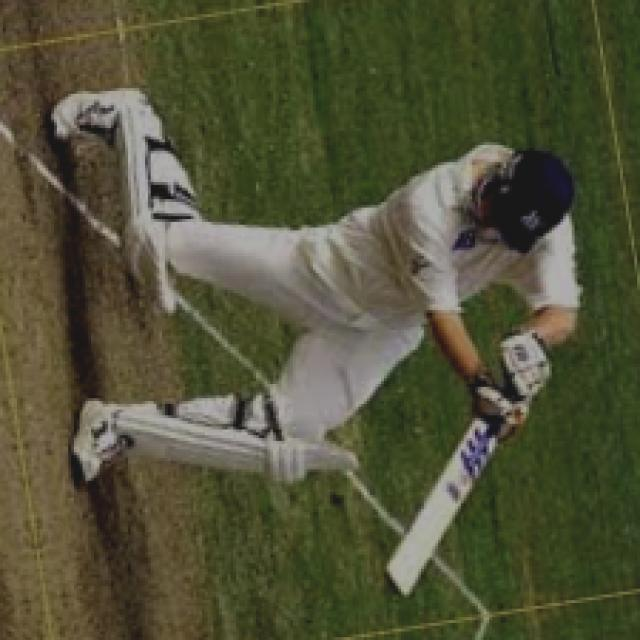bat: (370, 421, 501, 613)
toe: (381, 561, 404, 601)
